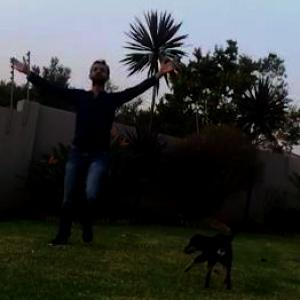takeoff: (13, 64, 167, 225)
